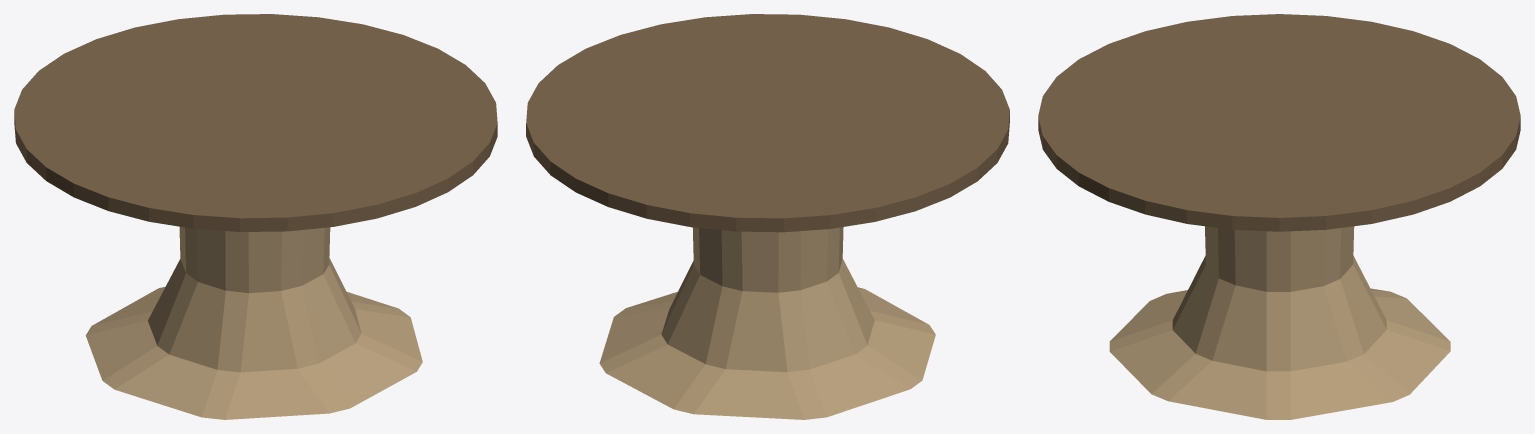
Rendered from Mushroom_table.fbx.
3 views of the same model, side by side, from view 1: azimuth 30°, elevation 25°; view 2: azimuth 150°, elevation 25°; view 3: azimuth 270°, elevation 25° (orthographic).
Visible parts, largest first — view 1: Table; view 2: Table; view 3: Table.
Boxes of the visible parts, x1=… form: Table: x1=14, y1=14, x2=497, y2=419; Table: x1=526, y1=14, x2=1009, y2=419; Table: x1=1038, y1=14, x2=1520, y2=419.
Size of the model in its own units: 200 by 106 by 200.
